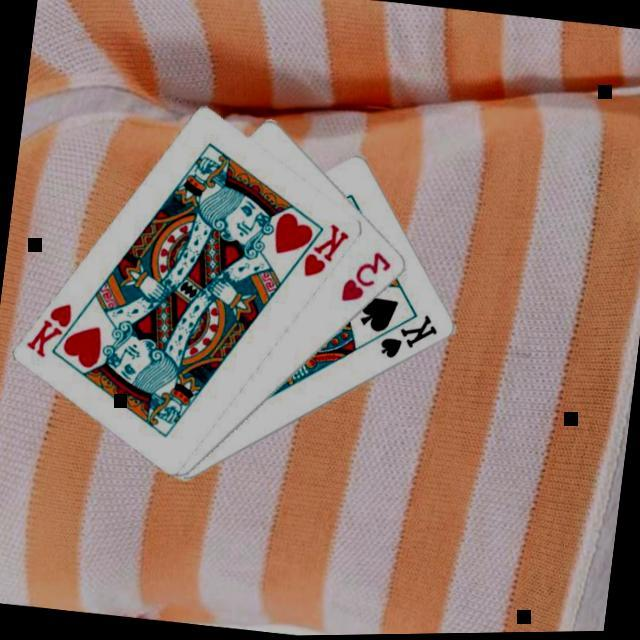3H: (336, 242, 395, 309)
KH: (22, 294, 77, 362), (298, 216, 353, 283)
KS: (374, 305, 442, 365)
